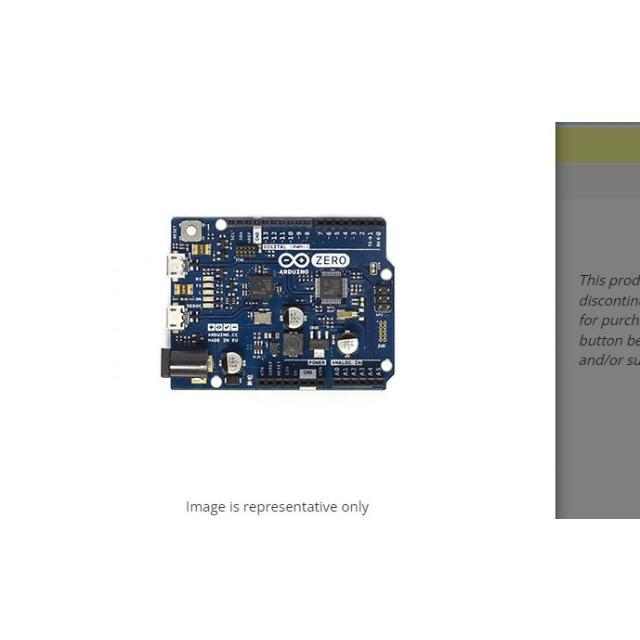Arduino-Zero: (163, 218, 395, 390)
